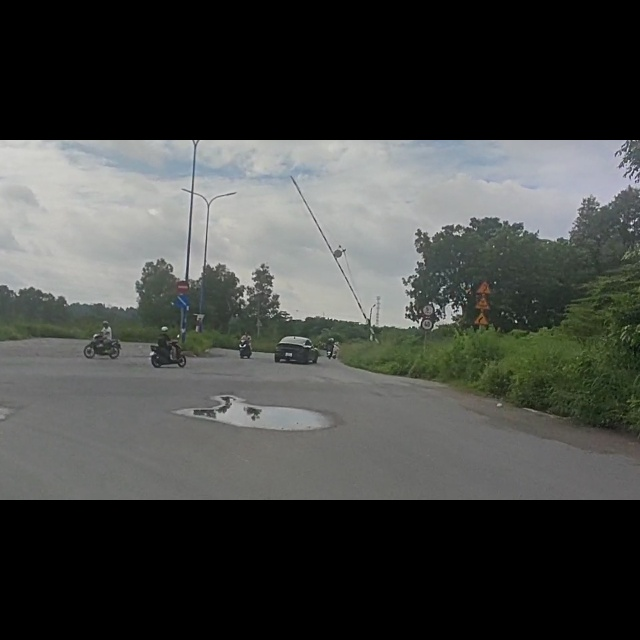bien_cam: (474, 301, 491, 331), (477, 247, 494, 275), (475, 276, 493, 301), (174, 274, 191, 300), (421, 315, 434, 340), (177, 248, 189, 269)
